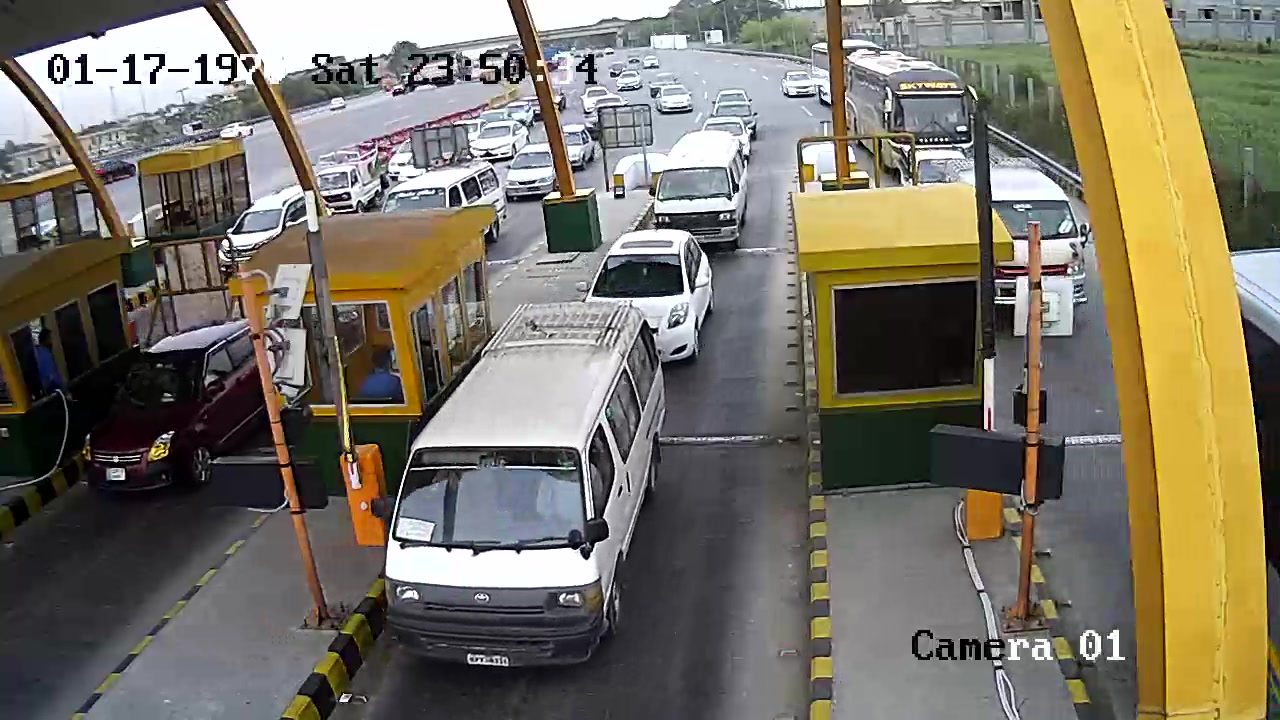F3: (376, 298, 688, 667)
